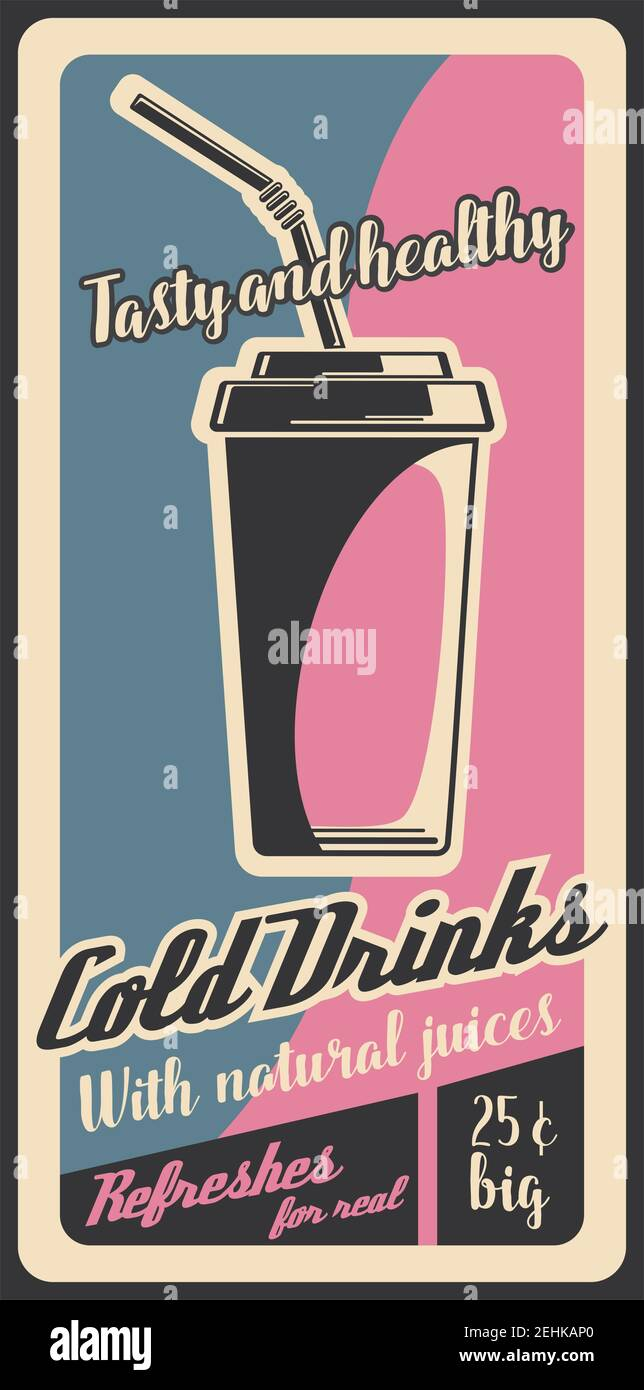Headline: (88, 195, 570, 335)
Price: (455, 1088, 566, 1231)
Product: (195, 332, 488, 873)
